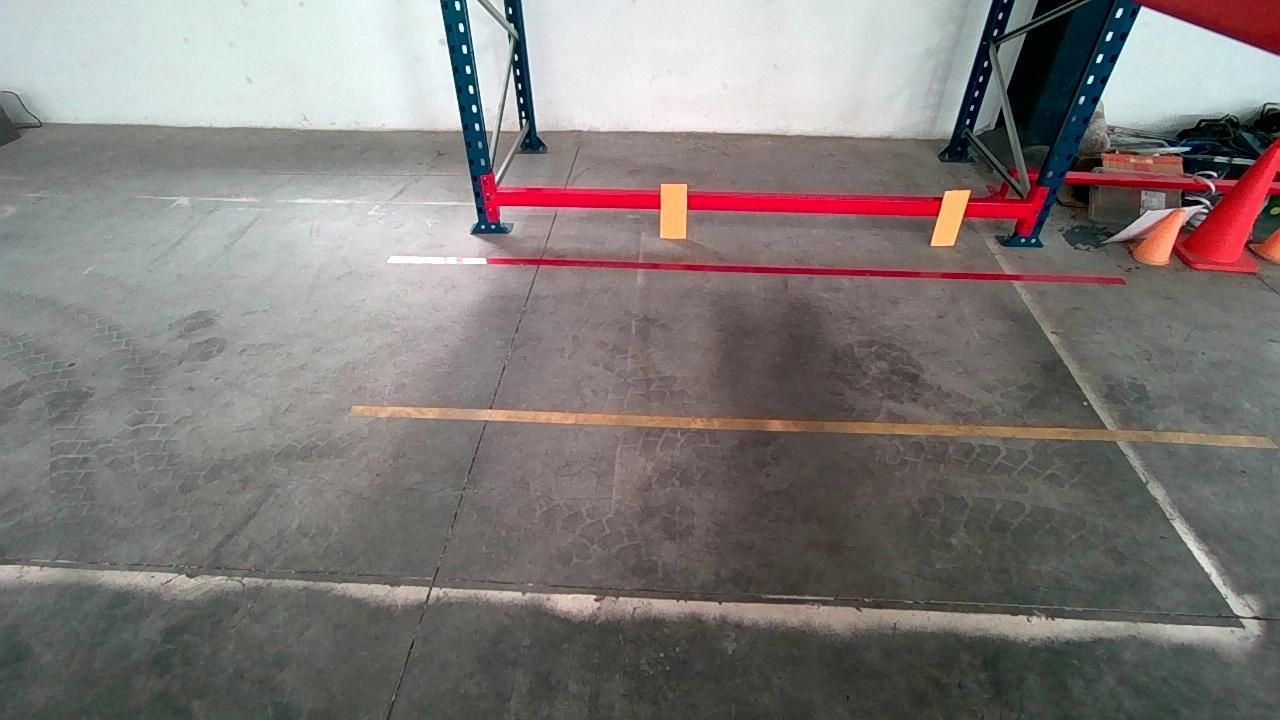h_rack: (490, 190, 1028, 219)
orange_strip: (930, 188, 972, 244), (660, 182, 689, 238)
red_line: (386, 251, 1119, 284)
yellow_line: (348, 403, 1276, 451)
